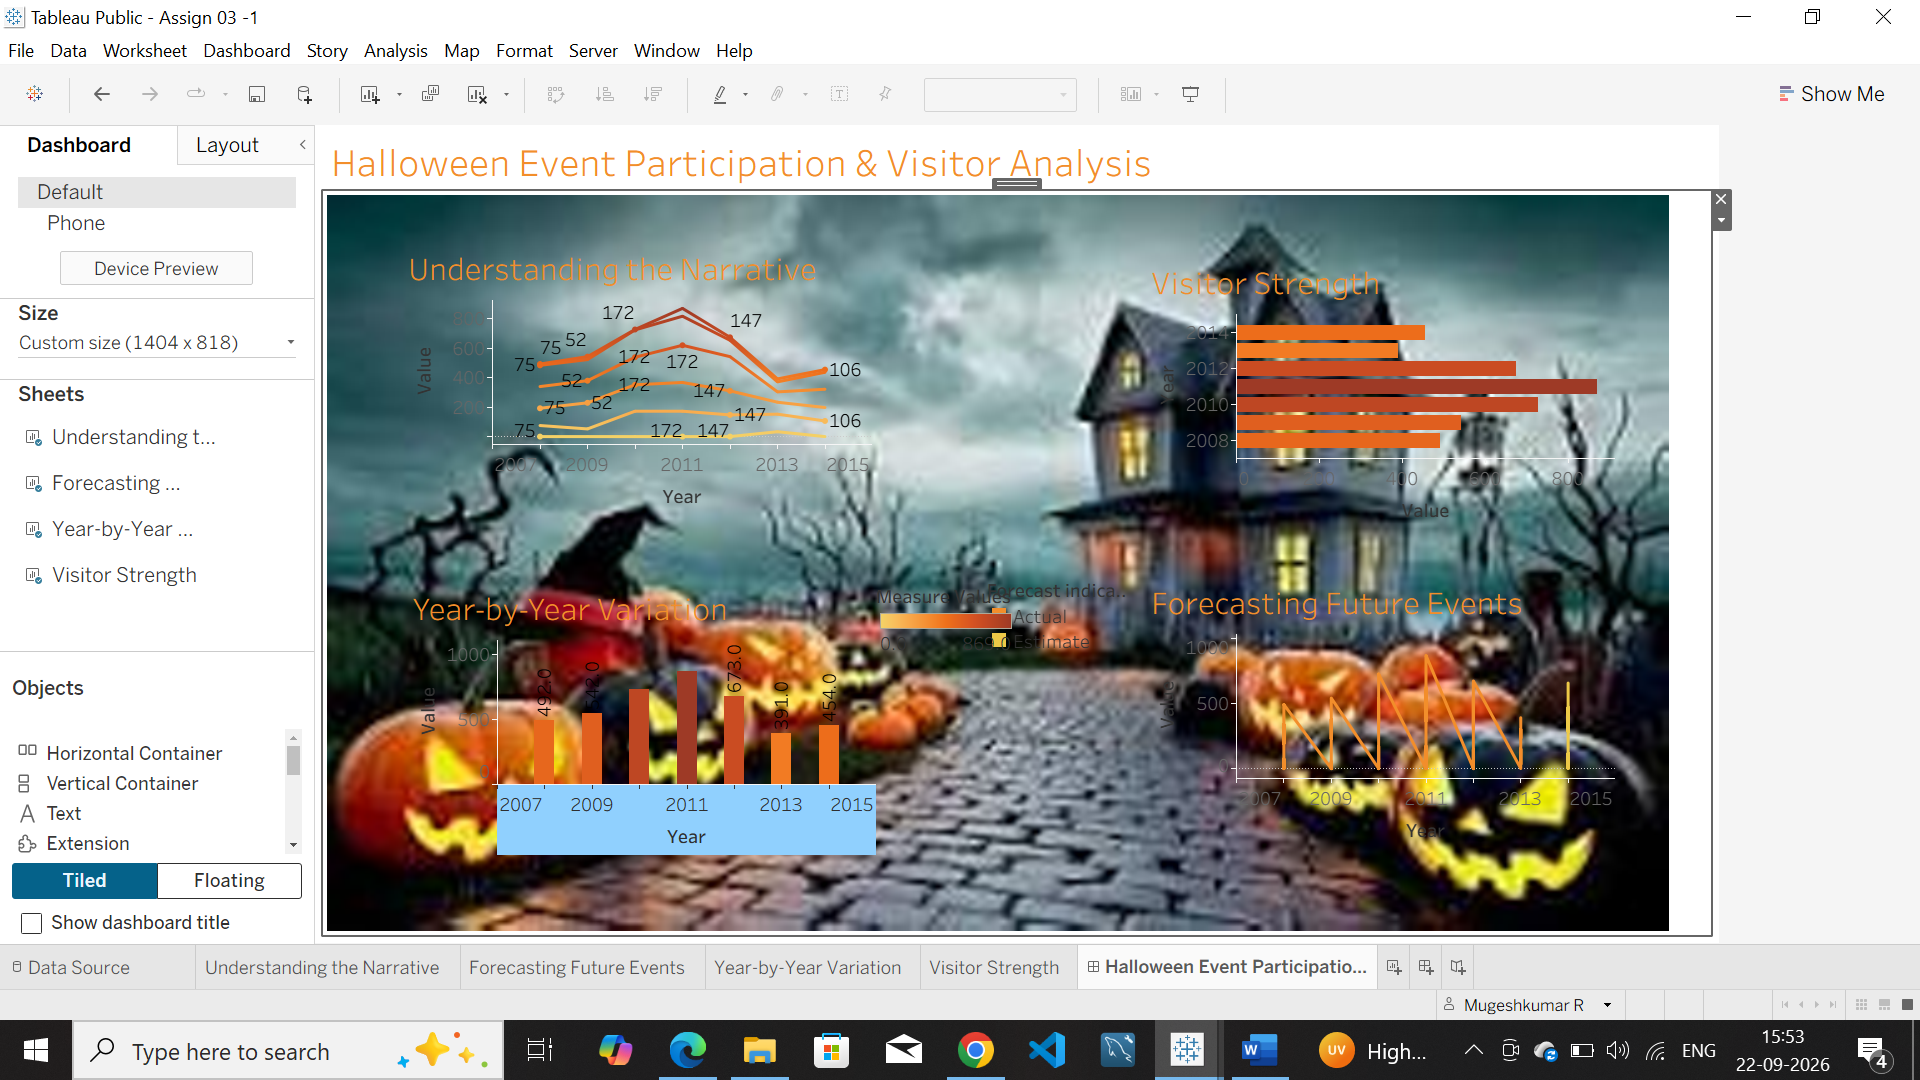

This screenshot's page, from the dashboard's own definition file:
{"tool":"tableau","page":{"name":"Halloween Event Participation & Visitor Analysis","canvas":[1404,818],"ordinal":0},"visuals":[{"type":"title","box":[8,8,1388,58]},{"type":"image","param":"C:/Users/HP/OneDrive/Pictures/Halloween1.jpg","box":[8,66,1388,744]},{"type":"worksheet","title":"Understanding the Narrative","mark":"Line","cols":["Year"],"box":[89,118,468,272]},{"type":"worksheet","title":"Visitor Strength","mark":"Bar","rows":["Year"],"box":[832,132,468,272]},{"type":"legend","title":"Forecasting Future Events","param":"[federated.0h9pbn807es3f81d1in9f0v9d23b].[none:Forecast Indicator:nk]","box":[672,452,140,76]},{"type":"worksheet","title":"Forecasting Future Events","mark":"Line","cols":["Year"],"box":[832,452,468,272]},{"type":"worksheet","title":"Year-by-Year Variation","mark":"Bar","cols":["Year"],"box":[93,458,468,272]},{"type":"legend","title":"Year-by-Year Variation","param":"[federated.0h9pbn807es3f81d1in9f0v9d23b].[Multiple Values]","box":[561,458,140,100]}]}

Visuals, with their boxes on the page's 1404x818 design canvas (x1, y1, x2, y2). These are canvas units, not pixel positions in the 1920x1080 screenshot, which may show the page scaled, cropped or inside an application window:
title: rect(8, 8, 1396, 66)
image: rect(8, 66, 1396, 810)
"Understanding the Narrative" worksheet (Line marks): rect(89, 118, 557, 390)
"Visitor Strength" worksheet (Bar marks): rect(832, 132, 1300, 404)
"Forecasting Future Events" legend: rect(672, 452, 812, 528)
"Forecasting Future Events" worksheet (Line marks): rect(832, 452, 1300, 724)
"Year-by-Year Variation" worksheet (Bar marks): rect(93, 458, 561, 730)
"Year-by-Year Variation" legend: rect(561, 458, 701, 558)
